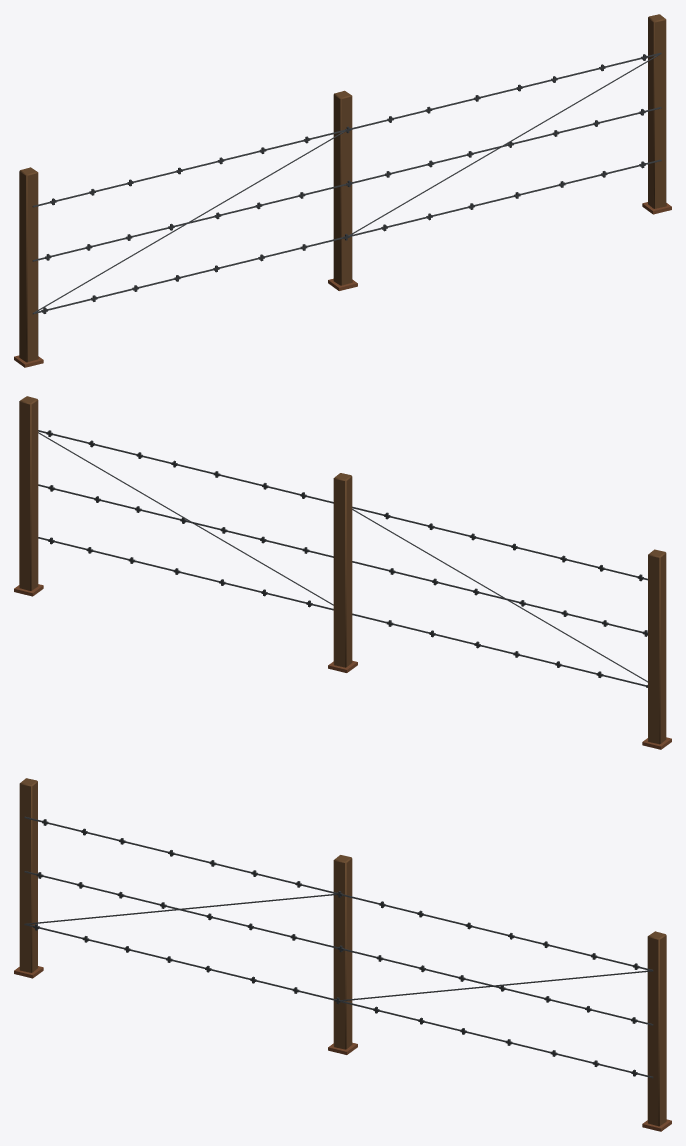
File: SM_Alambrada_4m.fbx
3 views of the same model, one above another, from view 1: azimuth 30°, elevation 25°; view 2: azimuth 150°, elevation 25°; view 3: azimuth 330°, elevation 25° (orthographic).
Visible parts, largest first — view 1: SM_Alambrada_4m; view 2: SM_Alambrada_4m; view 3: SM_Alambrada_4m.
Part boxes in pixels (x1=…): SM_Alambrada_4m: x1=14, y1=14, x2=671, y2=367; SM_Alambrada_4m: x1=14, y1=396, x2=671, y2=749; SM_Alambrada_4m: x1=14, y1=778, x2=671, y2=1131.
Size of what is drawn, in the model's own units: 4.12 by 0.12 by 1.16.
